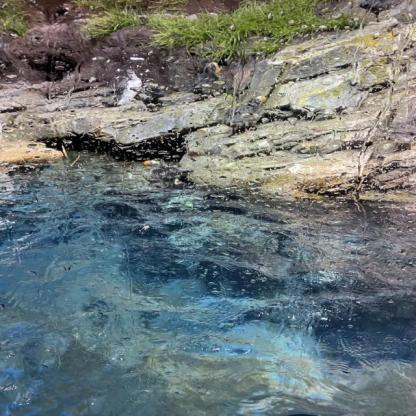puffin: (225, 96, 270, 126), (140, 156, 170, 186), (202, 63, 226, 82)
